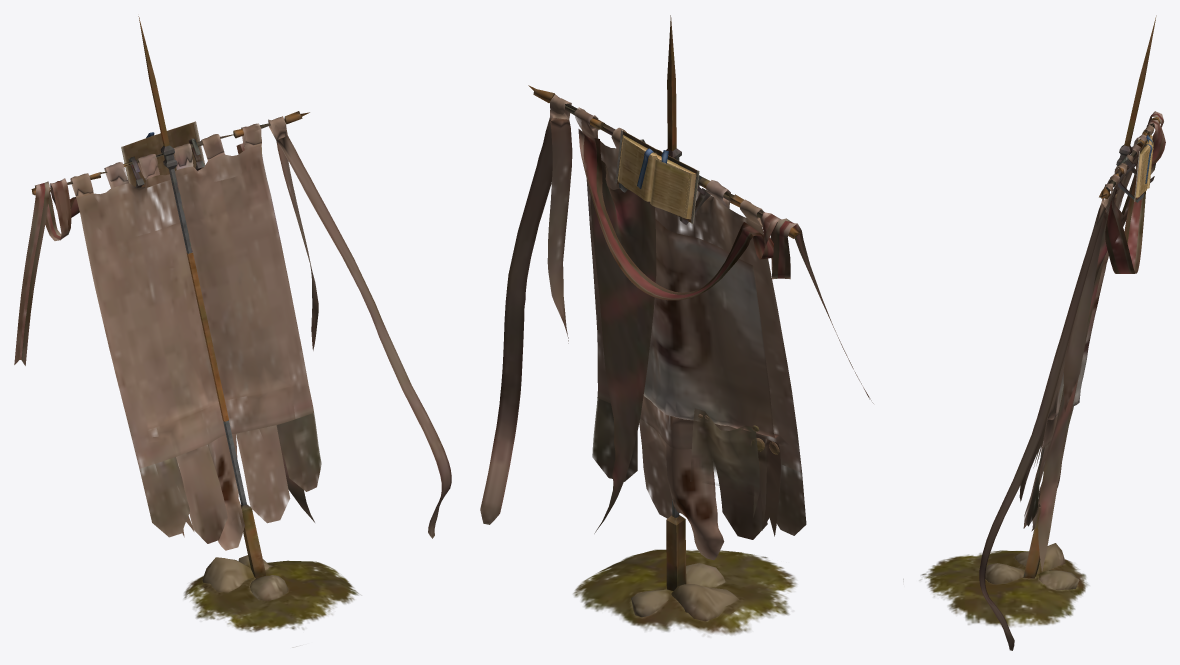
The model's file is warbanner.glb.
3 views of the same model, side by side, from view 1: azimuth 30°, elevation 25°; view 2: azimuth 150°, elevation 25°; view 3: azimuth 270°, elevation 25° (orthographic). The views are drawn at different scales.
Visible parts, largest first — view 1: Ghost_of_WAR_Seal006_Ghost_of_WAR_Pole_Cloth_MAT_0, Base_Dirt_Ghost_of_WAR_Base_MAT_0, Ghost_of_WAR_Pole_Ghost_of_WAR_Pole_MAT_0, Ghost_of_WAR_Book_Book_MAT_0; view 2: Ghost_of_WAR_Seal006_Ghost_of_WAR_Pole_Cloth_MAT_0, Base_Dirt_Ghost_of_WAR_Base_MAT_0, Ghost_of_WAR_Book_Book_MAT_0, Ghost_of_WAR_Pole_Ghost_of_WAR_Pole_MAT_0; view 3: Ghost_of_WAR_Seal006_Ghost_of_WAR_Pole_Cloth_MAT_0, Base_Dirt_Ghost_of_WAR_Base_MAT_0, Ghost_of_WAR_Pole_Ghost_of_WAR_Pole_MAT_0, Ghost_of_WAR_Book_Book_MAT_0.
Part boxes in pixels (box(x1,y1,x2,y2)): Ghost_of_WAR_Seal006_Ghost_of_WAR_Pole_Cloth_MAT_0: box(14, 116, 451, 550); Base_Dirt_Ghost_of_WAR_Base_MAT_0: box(184, 555, 358, 647); Ghost_of_WAR_Pole_Ghost_of_WAR_Pole_MAT_0: box(31, 16, 309, 578); Ghost_of_WAR_Book_Book_MAT_0: box(121, 121, 205, 187); Ghost_of_WAR_Seal006_Ghost_of_WAR_Pole_Cloth_MAT_0: box(480, 94, 873, 560); Base_Dirt_Ghost_of_WAR_Base_MAT_0: box(573, 549, 796, 634); Ghost_of_WAR_Book_Book_MAT_0: box(615, 130, 699, 223); Ghost_of_WAR_Pole_Ghost_of_WAR_Pole_MAT_0: box(528, 15, 800, 590); Ghost_of_WAR_Seal006_Ghost_of_WAR_Pole_Cloth_MAT_0: box(979, 111, 1165, 650); Base_Dirt_Ghost_of_WAR_Base_MAT_0: box(903, 543, 1088, 627); Ghost_of_WAR_Pole_Ghost_of_WAR_Pole_MAT_0: box(1023, 15, 1160, 578); Ghost_of_WAR_Book_Book_MAT_0: box(1134, 130, 1153, 201).
Bounding box in the file's own units: 83.08 × 116 × 50.33.
4 materials, 4 textured.
